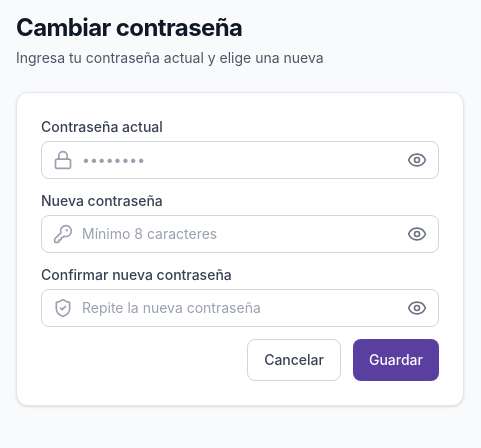
Test: ChangePasswordPage › muestra error si la nueva contraseña es muy corta
Type "OldPass1" into the password field labelled "Contraseña actual" at (240, 160), box left=41, top=141, right=439, bottom=179
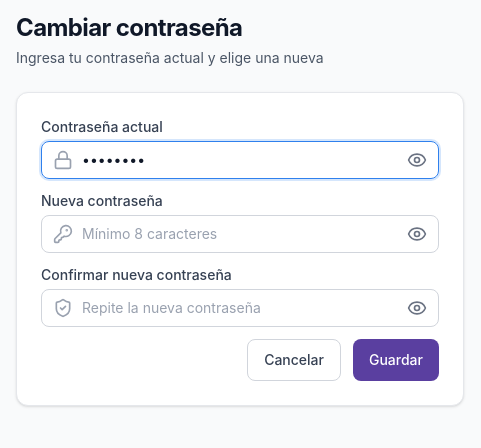
Type "Aa1" into the password field labelled "Nueva contraseña" at (240, 234), box left=41, top=215, right=439, bottom=253
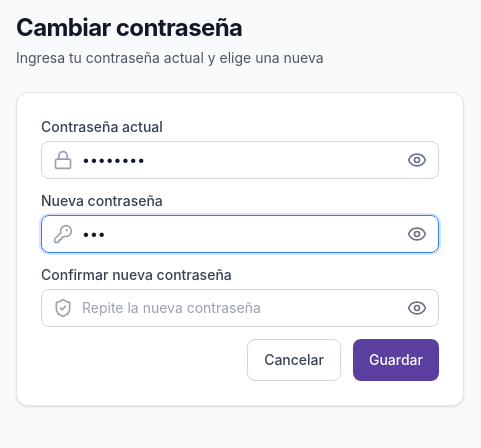
Type "Aa1" into the password field labelled "Confirmar nueva contraseña" at (240, 308), box left=41, top=289, right=439, bottom=327
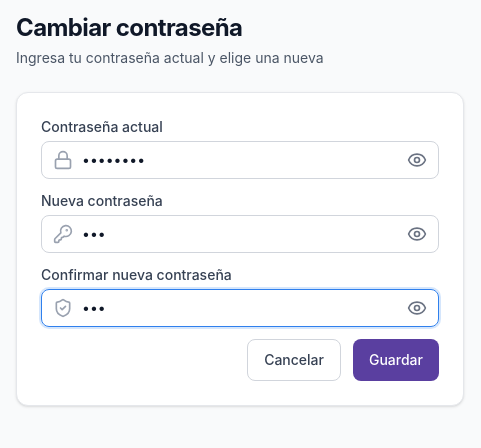
Click the button "Guardar" at (396, 360), box left=353, top=339, right=439, bottom=381
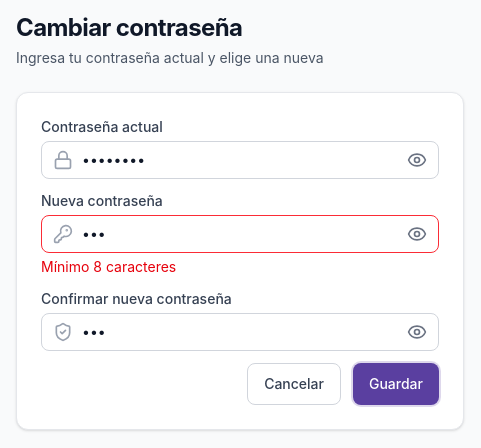
Result: the text "Mínimo 8 caracteres" is shown at left=41, top=258, right=176, bottom=275
